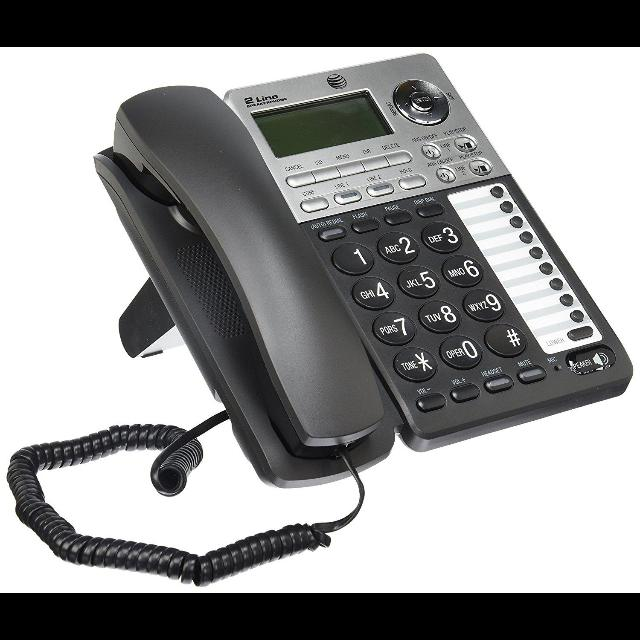Telephone-Set: (72, 47, 640, 501)
